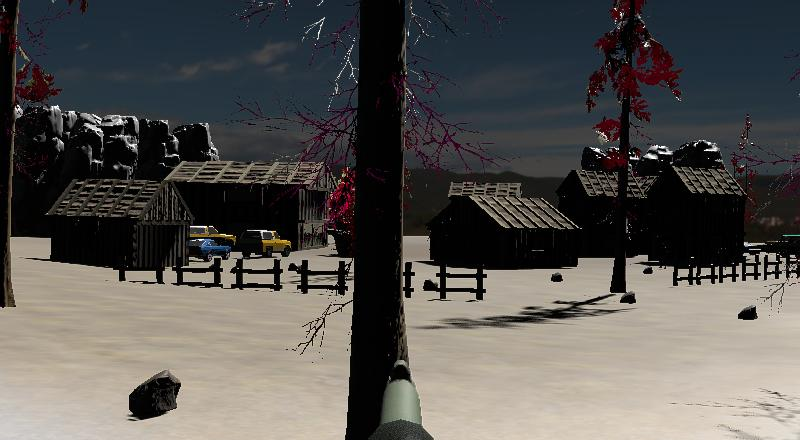House: (161, 159, 337, 251), (46, 180, 194, 268), (428, 193, 581, 270), (646, 163, 753, 269), (556, 166, 646, 259), (452, 179, 523, 197)
car: (238, 228, 292, 259), (188, 237, 231, 262), (189, 224, 232, 246)
